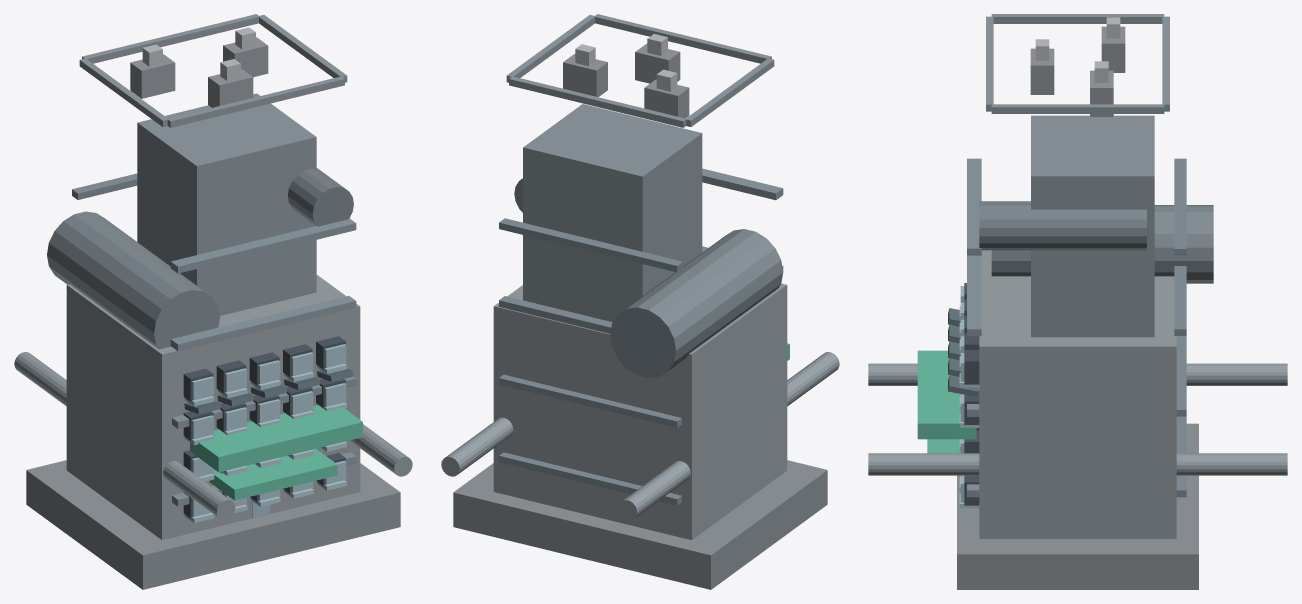
File: exchange.glb
3 renders of one model, left to right at view 1: azimuth 30°, elevation 25°; view 2: azimuth 150°, elevation 25°; view 3: azimuth 270°, elevation 25°, orthographic. The views are drawn at different scales.
Parts seen in each view (by area): view 1: world; view 2: world; view 3: world.
Boxes of the visible parts, left/top/right/bottom form: world: left=14, top=14, right=412, bottom=589; world: left=441, top=14, right=839, bottom=589; world: left=868, top=14, right=1287, bottom=589.
Size of the model in its own units: 1.25 by 2.21 by 1.7.
